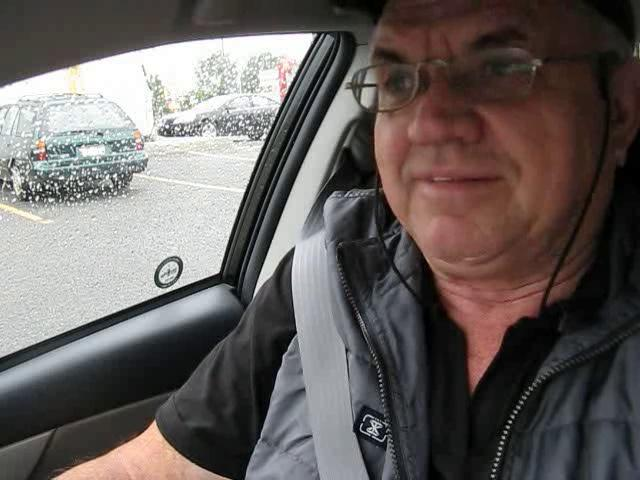no_yawn: (389, 144, 516, 215)
open_eyeL: (353, 52, 439, 119)
open_eyeR: (460, 38, 555, 99)
